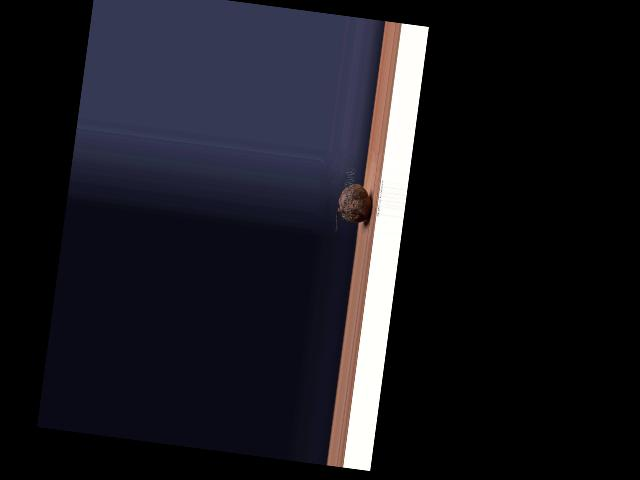beet: (334, 182, 374, 236)
